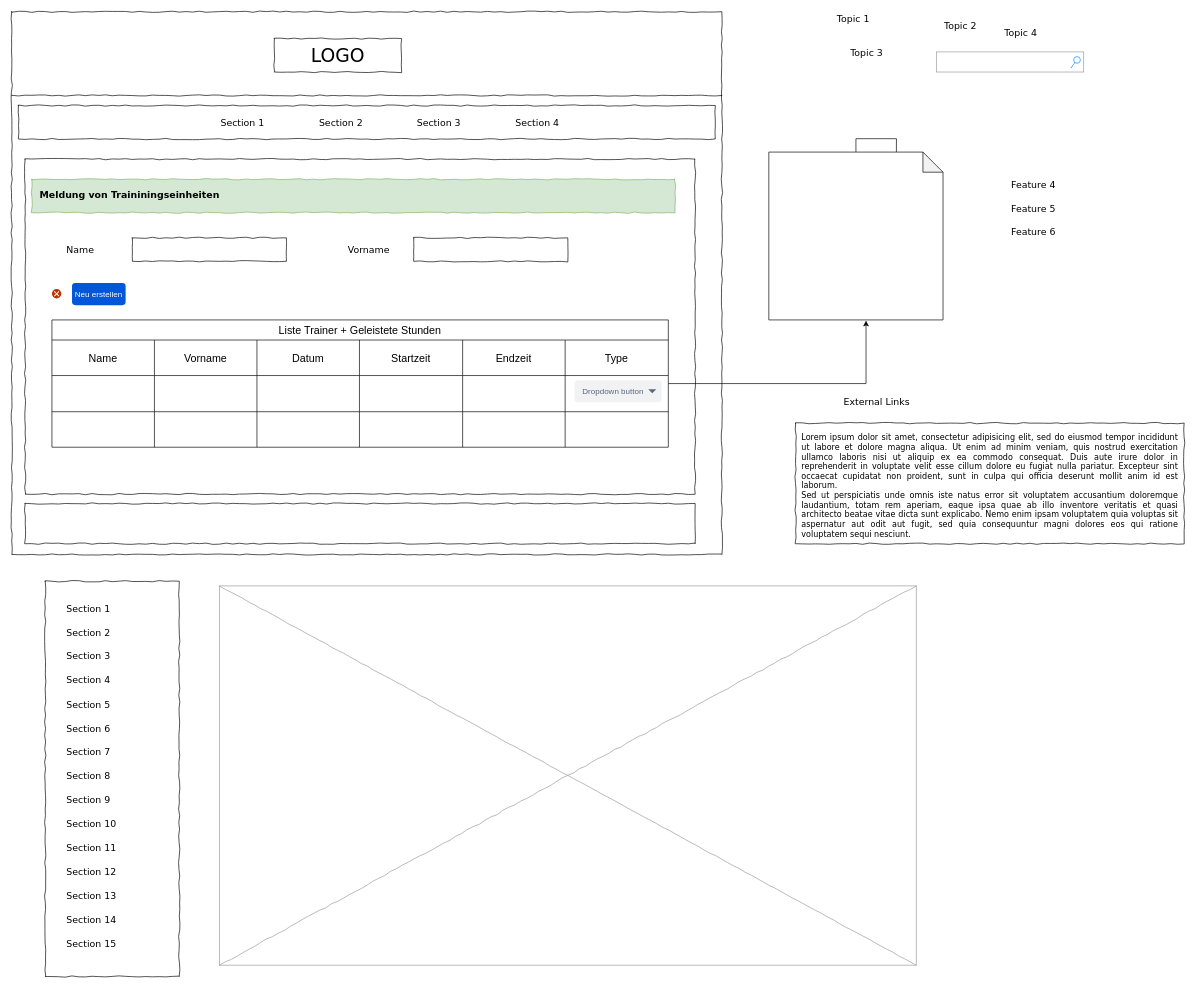
Image size: 1196x988. Some labels were removed from this diagram. The shapes that lost their labels are listed below. From the top down, each one's centre as x and y in pixels, then its label:
At (x=1010, y=61): "Search".
At (x=855, y=235): "Model Trainer #ID firstName LastName Date Startzeit Endzeit Type".
At (x=359, y=523): "Footer".
